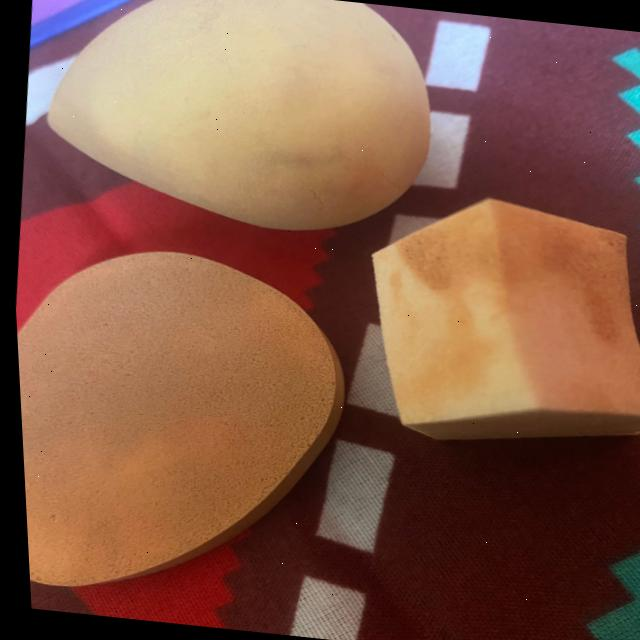beauty blender: (9, 226, 371, 634), (10, 0, 458, 253), (331, 186, 640, 496)
